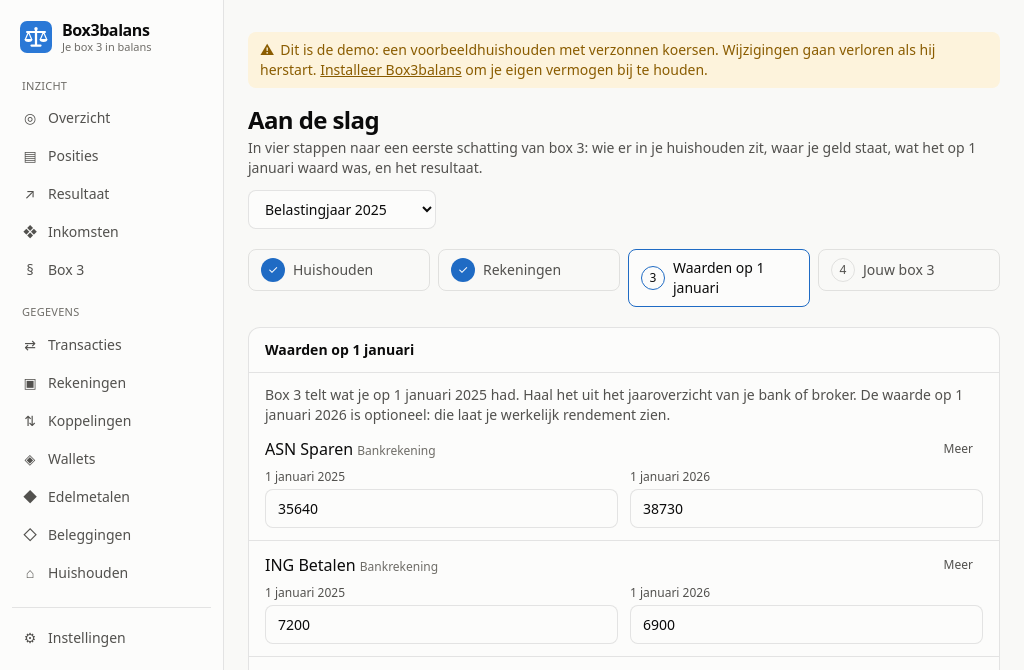
it: Start wizard › puts a value back when you change it and change it back before the first save is done
Replace the text in the field labelled "1 januari 2025" below "ASN Sparen" with "30.000" at {"x": 442, "y": 508}, box [265,489,618,528]
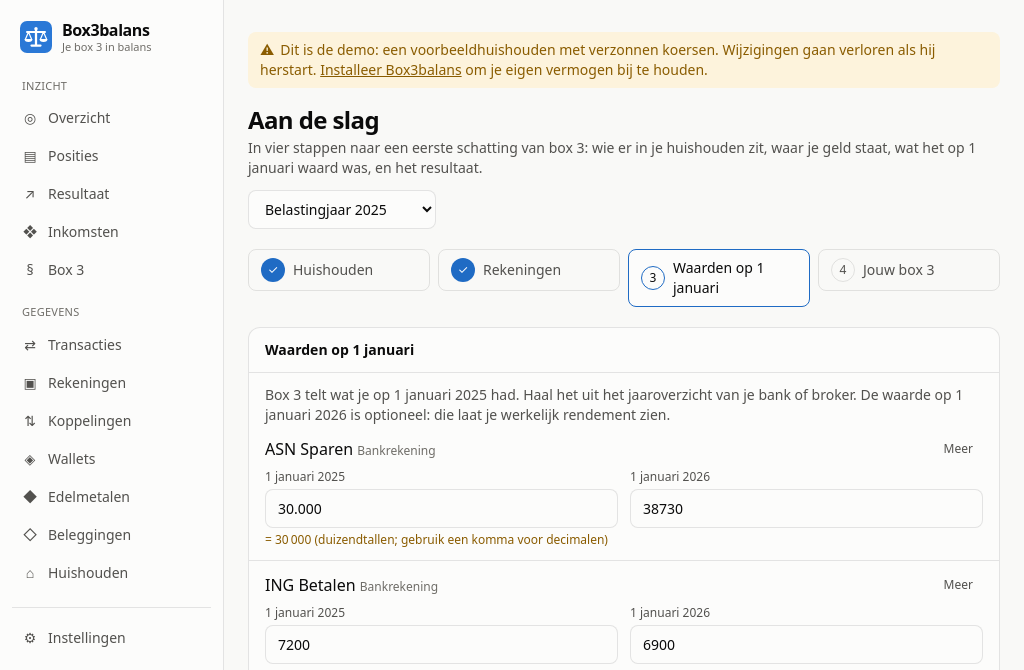
Replace the text in the field labelled "1 januari 2025" below "ASN Sparen" with "35640" at {"x": 442, "y": 508}, box [265,489,618,528]
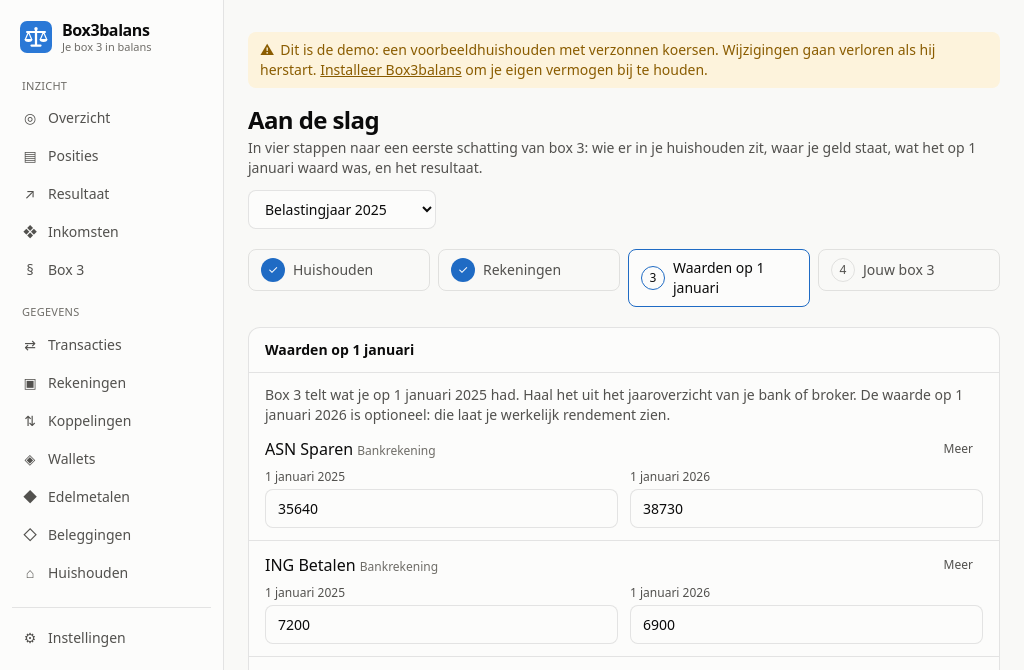
Leave the field labelled "1 januari 2025" below "ASN Sparen", box [265,489,618,528]
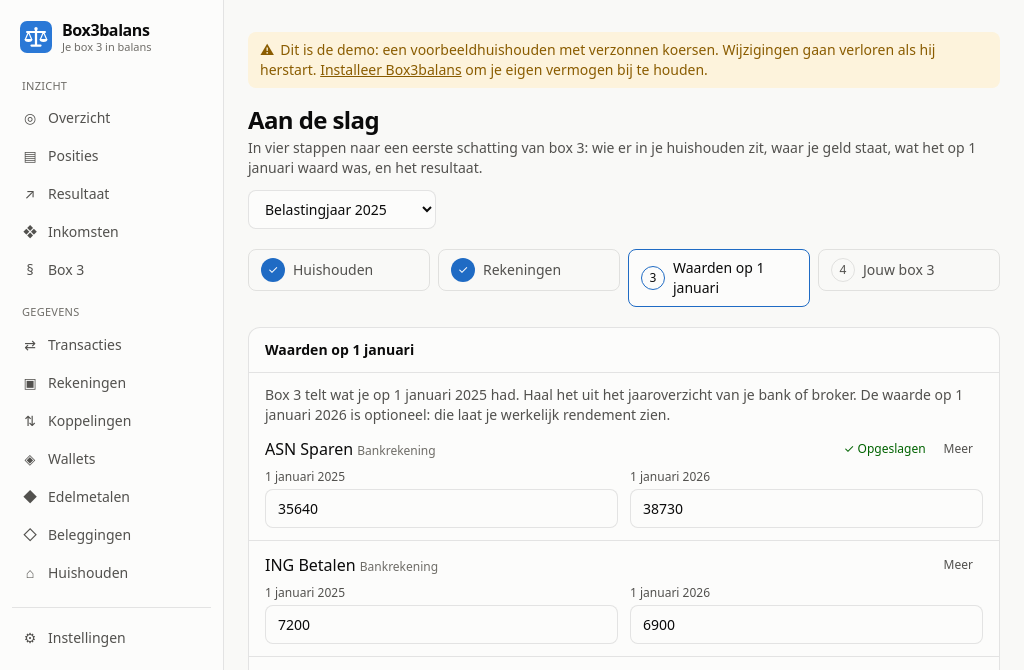
Now the text "✓ Opgeslagen" is shown, box [844,441,926,457]
